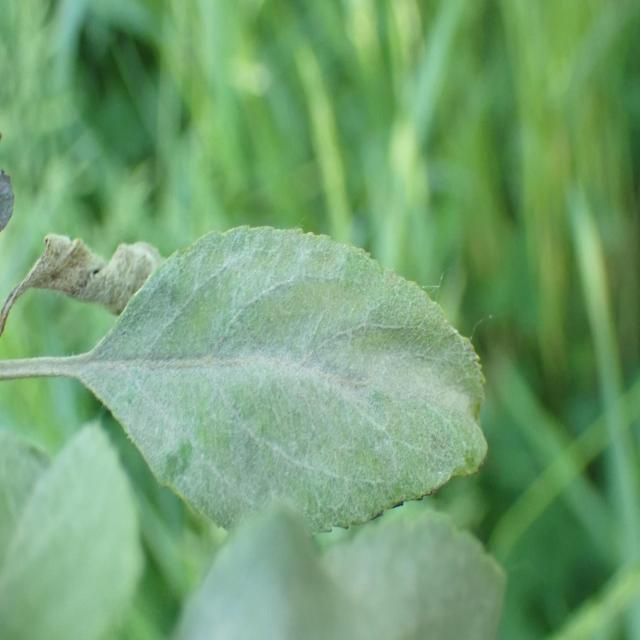Powdery_mildew: (78, 216, 496, 538)
